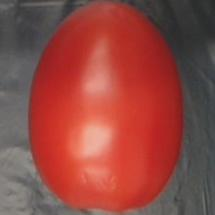unripe: (27, 0, 186, 215)
